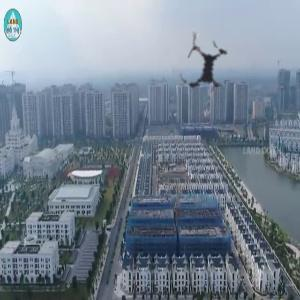drone: (154, 16, 254, 116)
